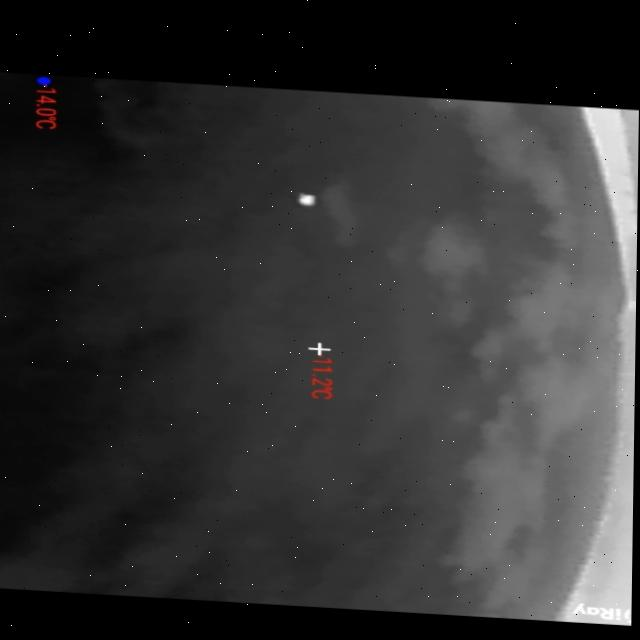drone: (290, 185, 321, 203)
